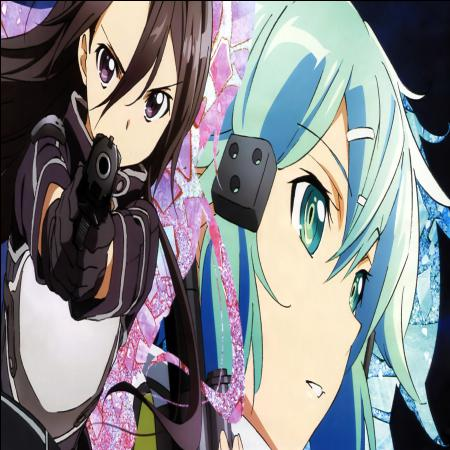Pistol: (54, 123, 130, 292)
